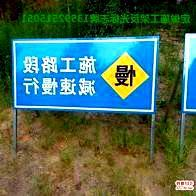sign: (13, 39, 156, 113)
